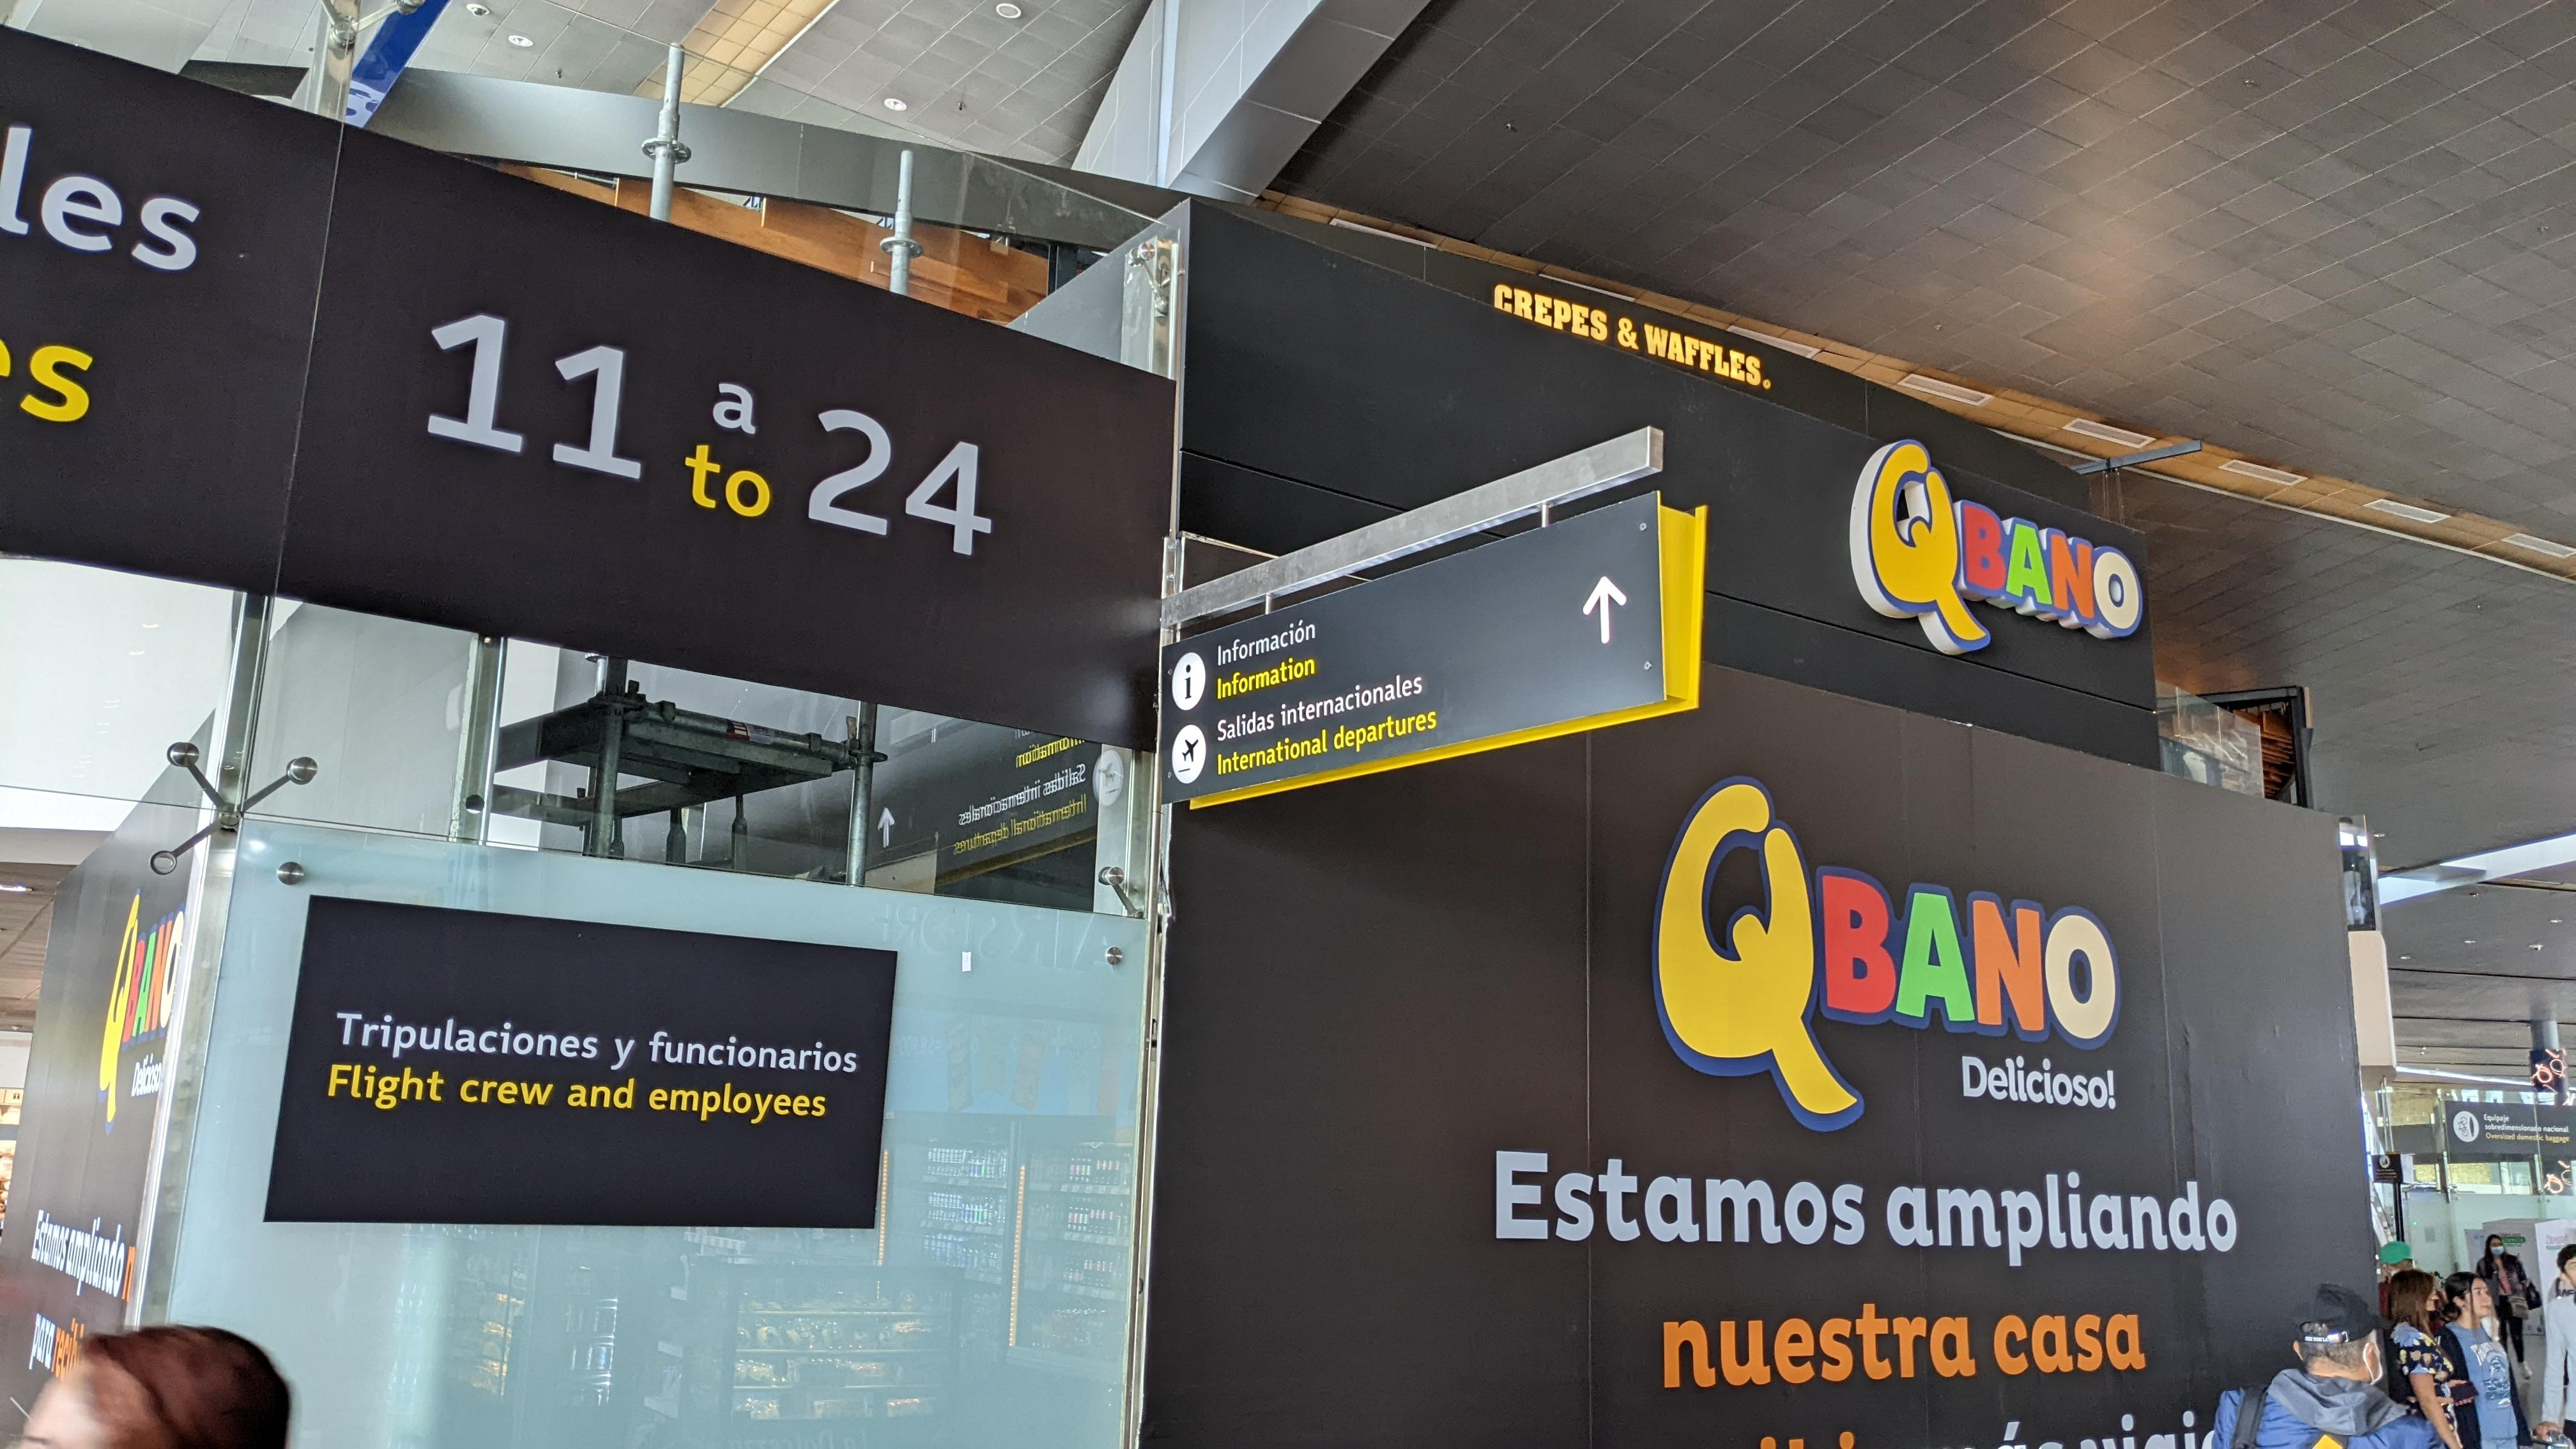airplane symbol: (1178, 736, 1201, 766)
up arrow: (1582, 575, 1629, 648), (876, 805, 897, 849)
